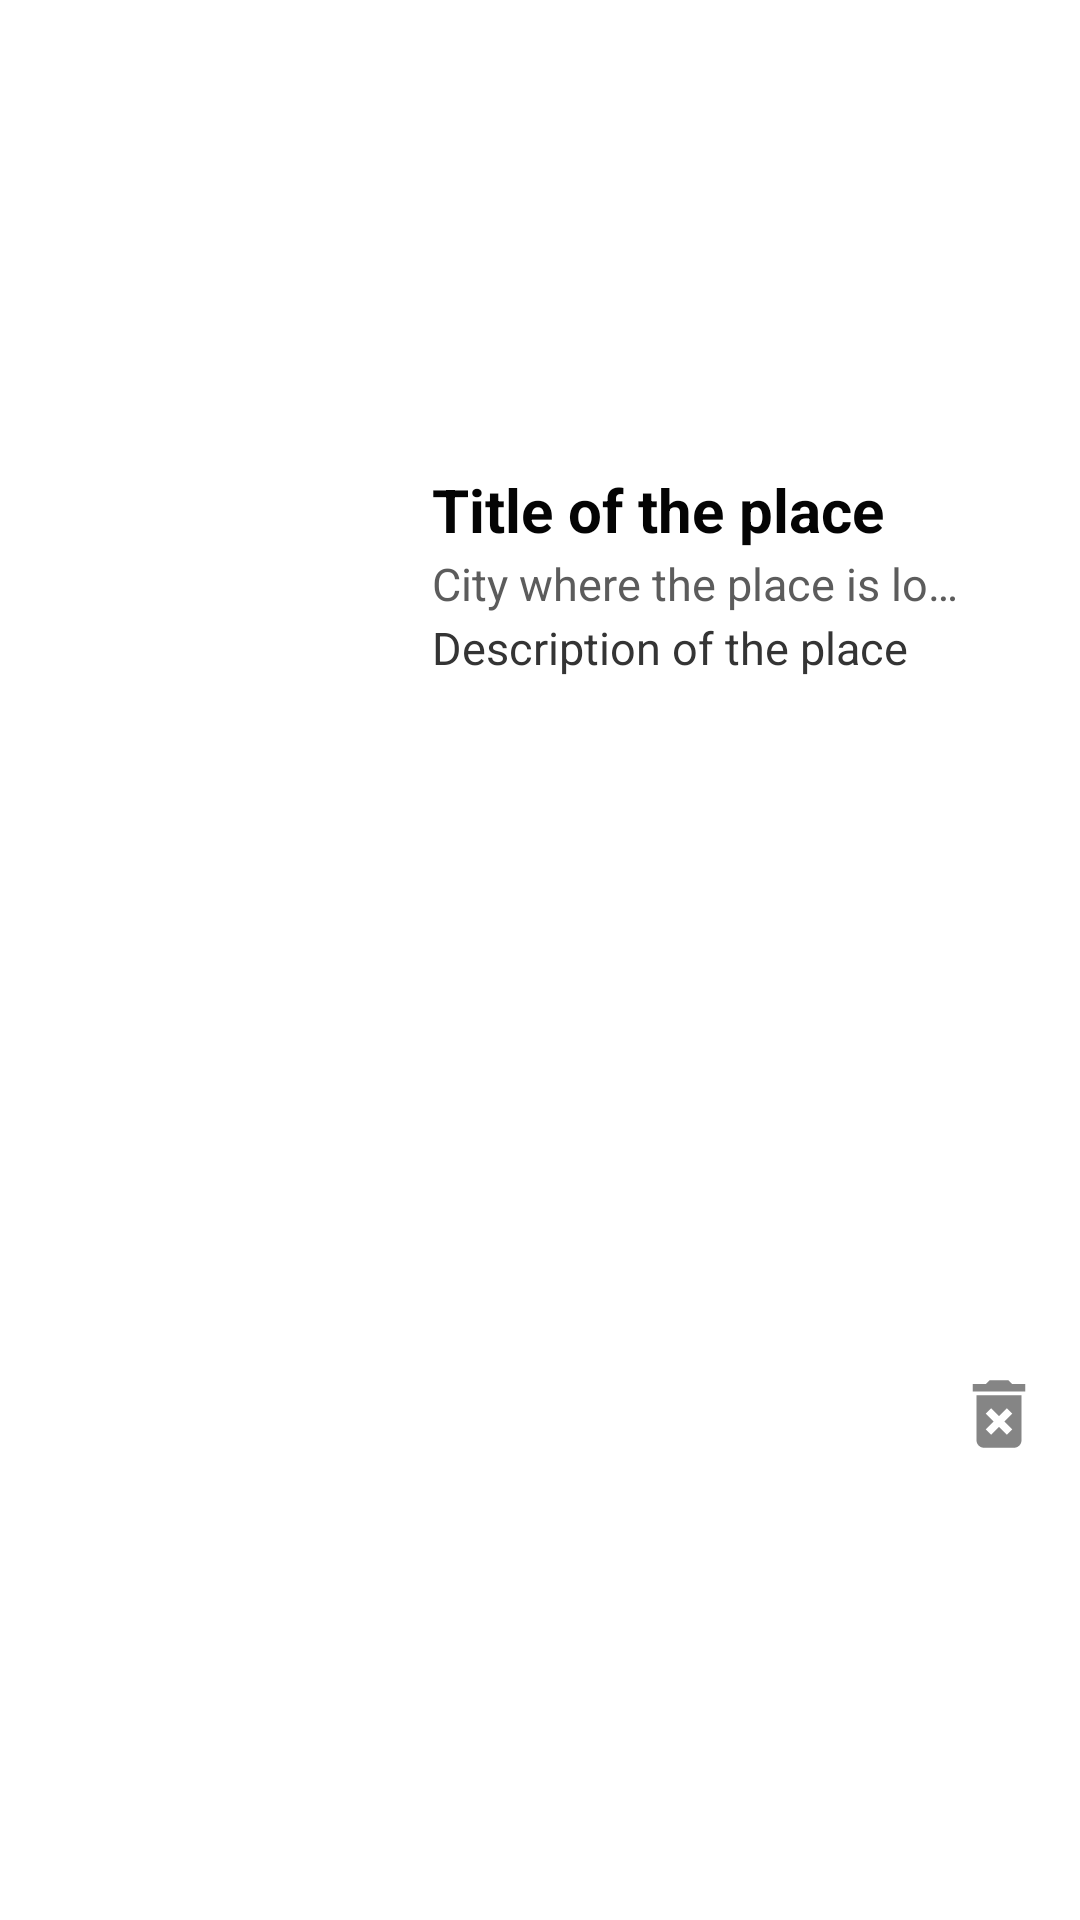

Named icons in this screenshot (1080px×1920px) and their bounding boxes, (x1,y1,x2,y2):
delete: (972,1380,1026,1448)
